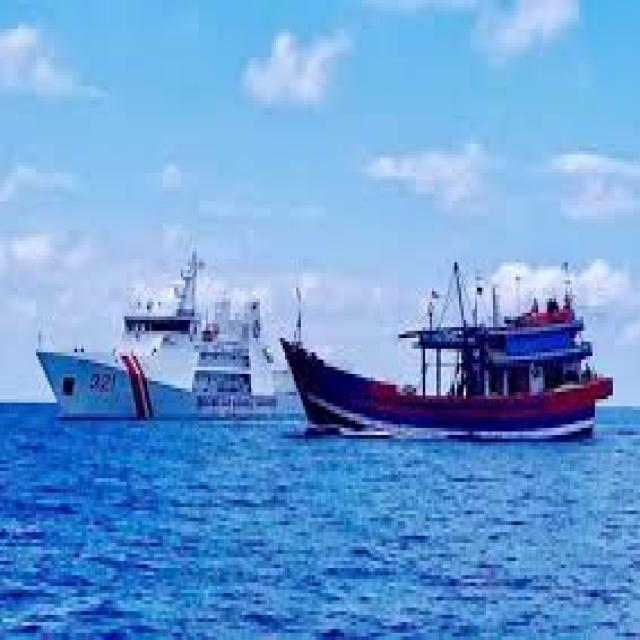PassengerShip: (30, 208, 187, 390)
